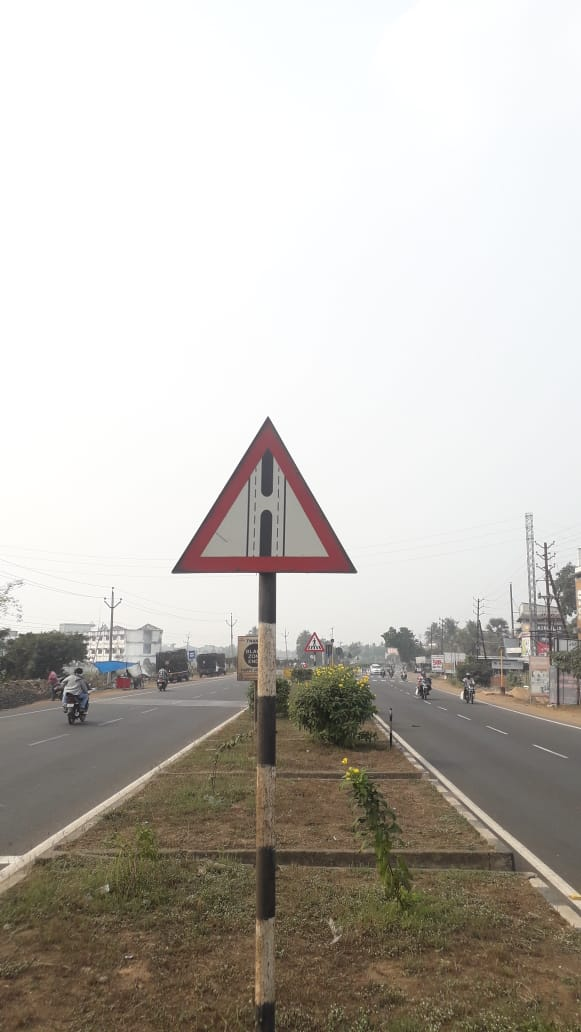highway go straight: (149, 391, 395, 603)
